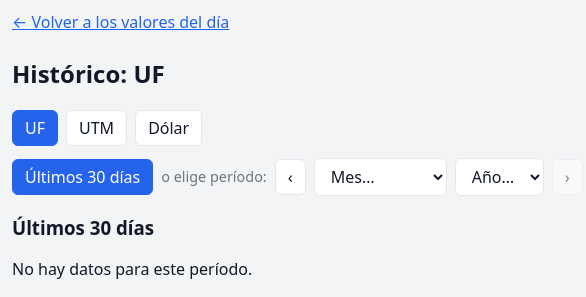
HistoricoPage › avisa cuando no hay datos o la API falla
expect the text "No hay datos para este período." is shown: met, box x1=12 y1=258 x2=252 y2=280
Click the tab "Dólar": (169, 128) x1=135 y1=110 x2=202 y2=146
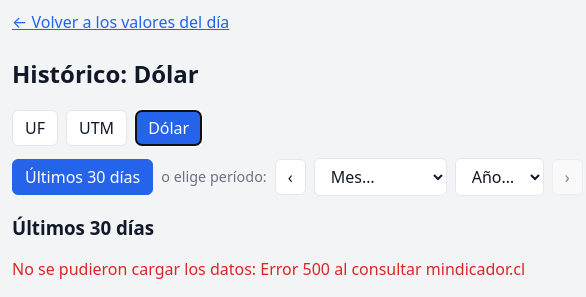
expect the message shows "No se pudieron cargar": met, box x1=12 y1=258 x2=260 y2=280
